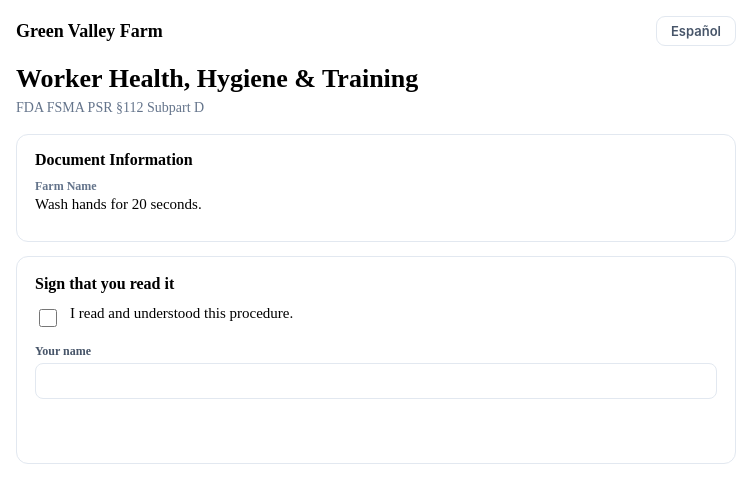
Test: SharedSopPage: reading › can be read in Spanish, with the SOP’s own Spanish title
Expected: the heading "Worker Health, Hygiene & Training" is shown, [16, 64, 418, 93]
Click the button "Español".
click(696, 31)  # box [656, 16, 736, 46]
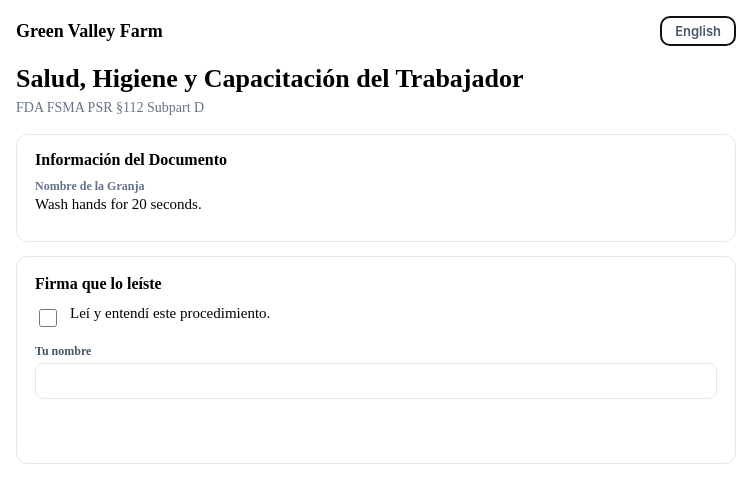
Expected: the button "English" is shown, [660, 16, 736, 46]
Expected: the heading "Worker Health, Hygiene & Training" no longer shows "Worker Health, Hygiene & Training"
